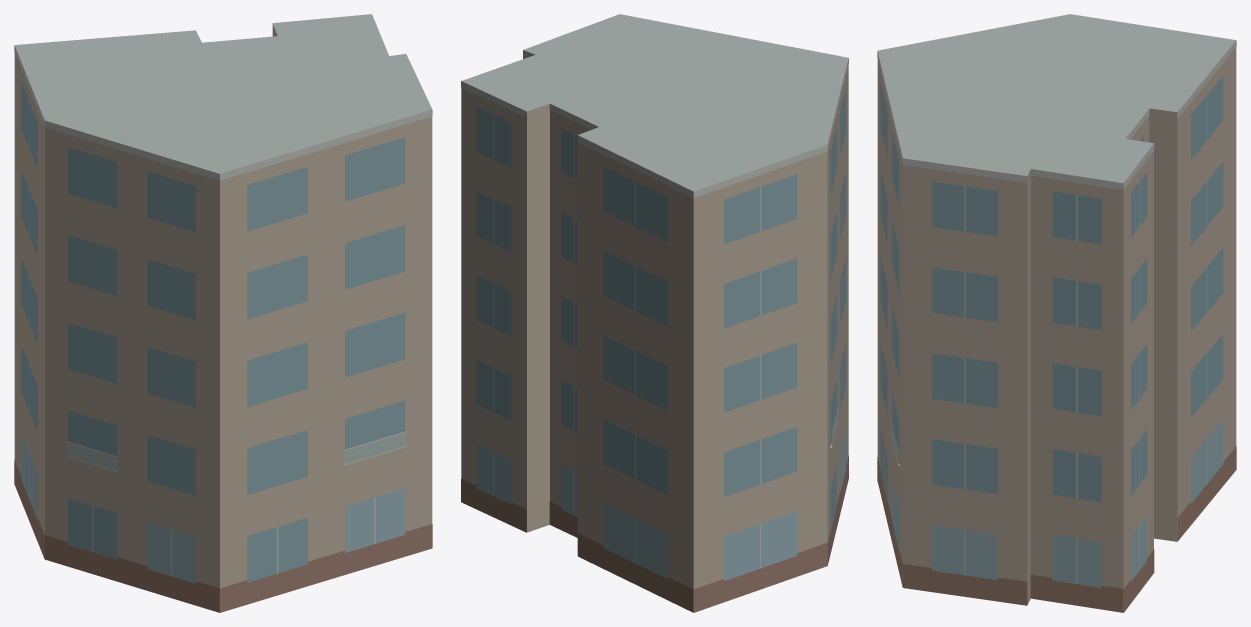
The model's file is survey-upis-32725909.glb.
The picture shows the model from 3 angles, left to right: view 1: azimuth 30°, elevation 25°; view 2: azimuth 150°, elevation 25°; view 3: azimuth 270°, elevation 25°; orthographic projection. The views are drawn at different scales.
Visible parts, largest first — view 1: survey-upis-32725909.tmp; view 2: survey-upis-32725909.tmp; view 3: survey-upis-32725909.tmp.
Boxes of the visible parts, bbox=[...] form: survey-upis-32725909.tmp: bbox=[14, 14, 432, 612]; survey-upis-32725909.tmp: bbox=[461, 14, 848, 612]; survey-upis-32725909.tmp: bbox=[877, 14, 1236, 612].
Bounding box in the file's own units: 13.15 × 15.55 × 11.79.
